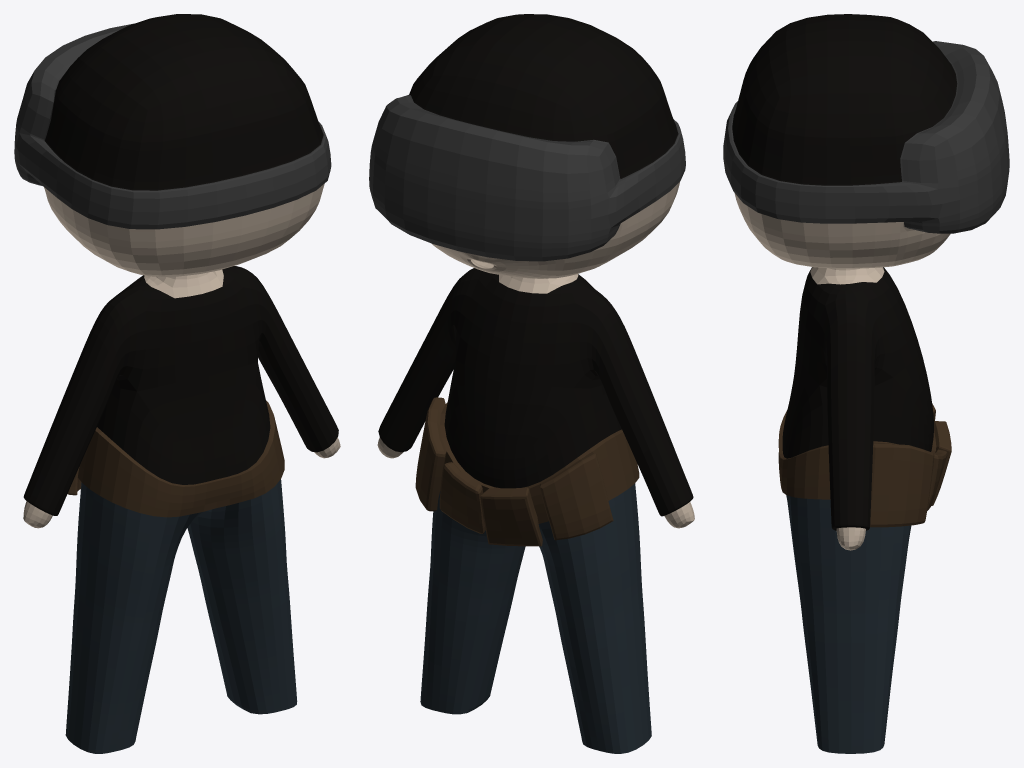
File: mannequin.fbx
3 renders of one model, left to right at view 1: azimuth 30°, elevation 25°; view 2: azimuth 150°, elevation 25°; view 3: azimuth 270°, elevation 25°, orthographic. The views are drawn at different scales.
Visible parts, largest first — view 1: Cube.001, Cube; view 2: Cube.001, Cube; view 3: Cube, Cube.001.
Boxes of the visible parts, <box> form: Cube.001: <box>23,266,340,753</box>; Cube: <box>14,14,331,276</box>; Cube.001: <box>377,268,694,753</box>; Cube: <box>369,14,685,278</box>; Cube: <box>723,14,1009,268</box>; Cube.001: <box>778,267,951,753</box>.
Bounding box in the file's own units: 127 × 266 × 102.
